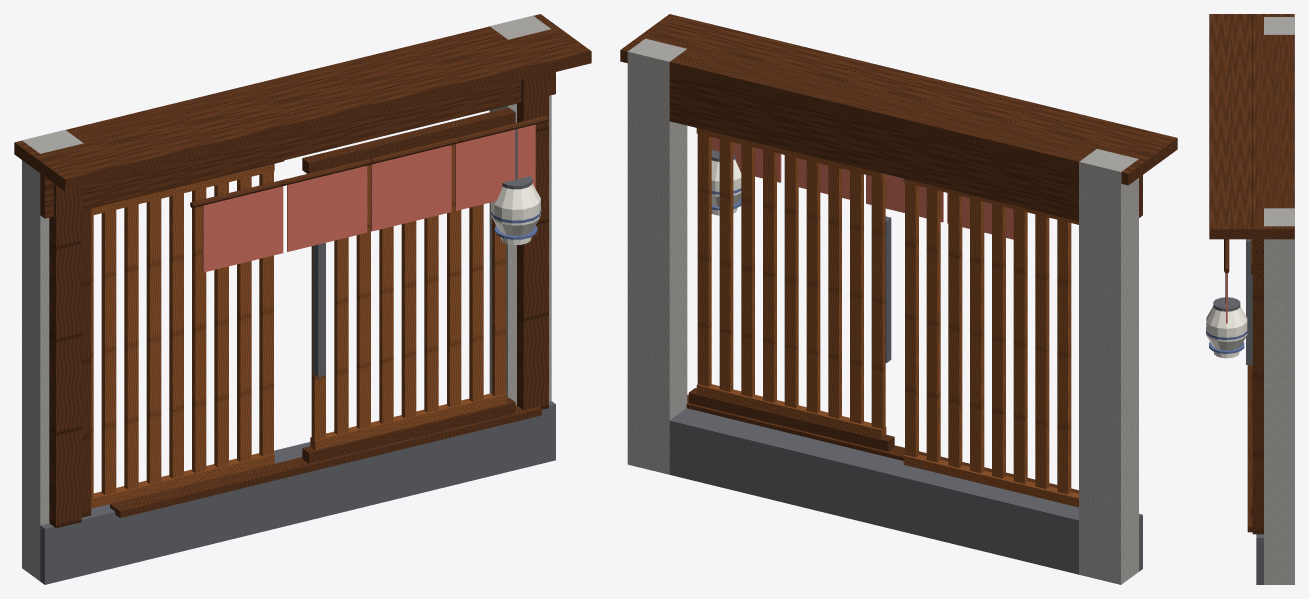
Rendered from izakaya_front_bay.glb.
3 renders of one model, left to right at view 1: azimuth 30°, elevation 25°; view 2: azimuth 150°, elevation 25°; view 3: azimuth 270°, elevation 25°, orthographic. The views are drawn at different scales.
Visible parts, largest first — view 1: izakaya-front-bay-darkwood, izakaya-front-bay-timber, door/timber, izakaya-front-bay-charcoal, izakaya-front-bay-vermilion, izakaya-front-bay-concrete, door/darkwood, izakaya-front-bay-cream, door/charcoal; view 2: izakaya-front-bay-darkwood, izakaya-front-bay-concrete, door/timber, izakaya-front-bay-timber, izakaya-front-bay-charcoal, izakaya-front-bay-vermilion, door/darkwood, door/charcoal, izakaya-front-bay-cream; view 3: izakaya-front-bay-darkwood, izakaya-front-bay-concrete, izakaya-front-bay-cream, door/charcoal, izakaya-front-bay-charcoal, izakaya-front-bay-indigo, door/darkwood.
Part boxes in pixels (bbox=[...]): izakaya-front-bay-darkwood: bbox=[14, 14, 591, 528]; izakaya-front-bay-timber: bbox=[91, 164, 274, 508]; door/timber: bbox=[310, 144, 506, 450]; izakaya-front-bay-charcoal: bbox=[40, 129, 555, 584]; izakaya-front-bay-vermilion: bbox=[202, 124, 535, 272]; izakaya-front-bay-concrete: bbox=[22, 15, 551, 580]; door/darkwood: bbox=[302, 107, 515, 463]; izakaya-front-bay-cream: bbox=[491, 183, 540, 245]; door/charcoal: bbox=[313, 243, 325, 377]; izakaya-front-bay-darkwood: bbox=[620, 14, 1177, 493]; izakaya-front-bay-concrete: bbox=[627, 38, 1138, 584]; door/timber: bbox=[696, 128, 886, 438]; izakaya-front-bay-timber: bbox=[903, 178, 1078, 507]; izakaya-front-bay-charcoal: bbox=[669, 150, 1142, 574]; izakaya-front-bay-vermilion: bbox=[711, 137, 1013, 239]; door/darkwood: bbox=[688, 388, 894, 451]; door/charcoal: bbox=[885, 216, 891, 363]; izakaya-front-bay-cream: bbox=[711, 159, 741, 215]; izakaya-front-bay-darkwood: bbox=[1209, 14, 1294, 534]; izakaya-front-bay-concrete: bbox=[1264, 17, 1294, 584]; izakaya-front-bay-cream: bbox=[1206, 306, 1247, 358]; door/charcoal: bbox=[1246, 239, 1252, 364]; izakaya-front-bay-charcoal: bbox=[1213, 273, 1263, 584]; izakaya-front-bay-indigo: bbox=[1206, 327, 1247, 353]; door/darkwood: bbox=[1251, 239, 1252, 516].
Bounding box in the file's own units: 4.12 × 3.2 × 0.7187.
7 materials, 3 textured.
